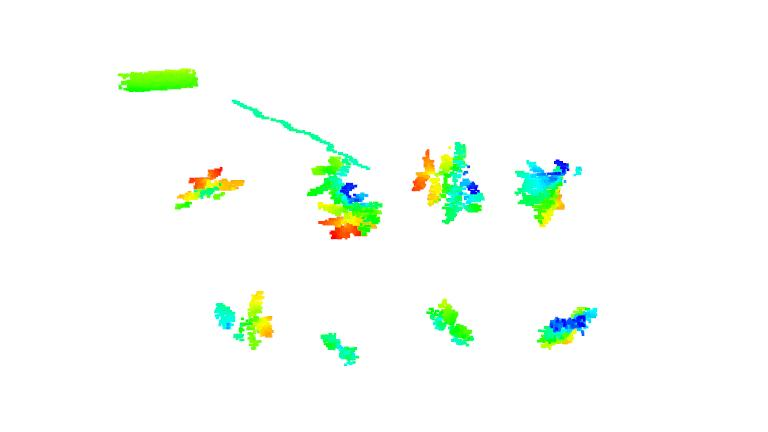chickpea: (307, 153, 386, 239), (409, 139, 486, 226), (511, 153, 582, 227), (212, 286, 280, 352), (175, 165, 245, 214), (532, 303, 602, 351), (425, 298, 478, 348), (316, 329, 359, 367)
